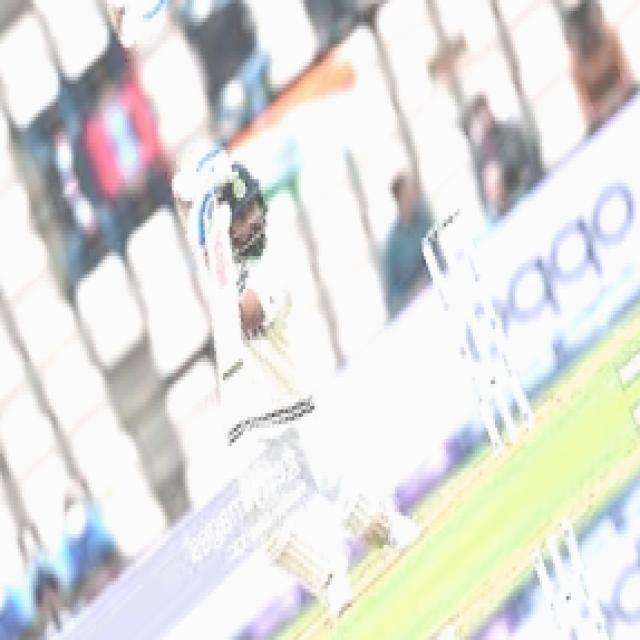bat: (190, 208, 263, 390)
toe: (217, 359, 246, 382)
